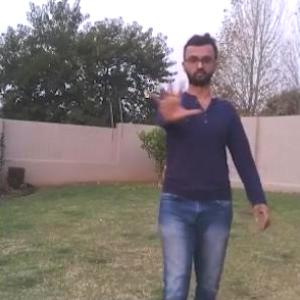follow_hand: (147, 73, 203, 126)
